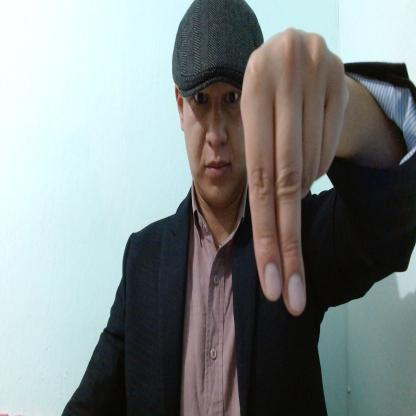N: (241, 26, 349, 314)
